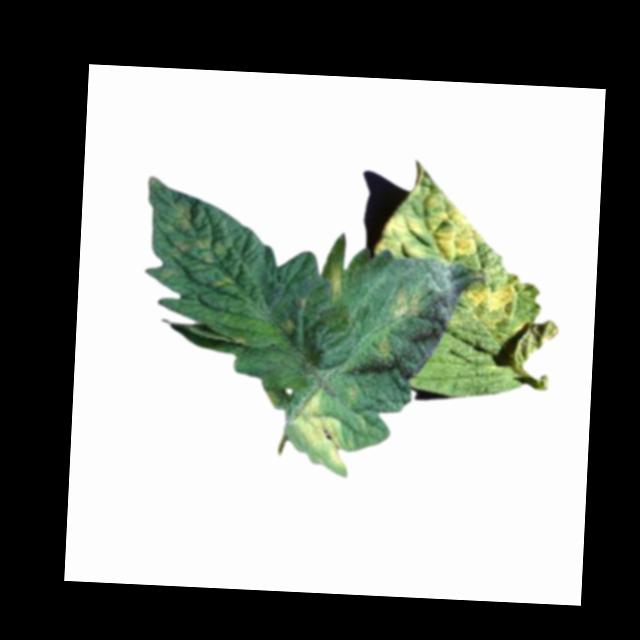Leaf_Mold: (372, 161, 491, 267), (149, 191, 232, 282), (287, 391, 357, 479), (461, 274, 526, 331), (325, 255, 347, 307), (390, 284, 419, 322)
